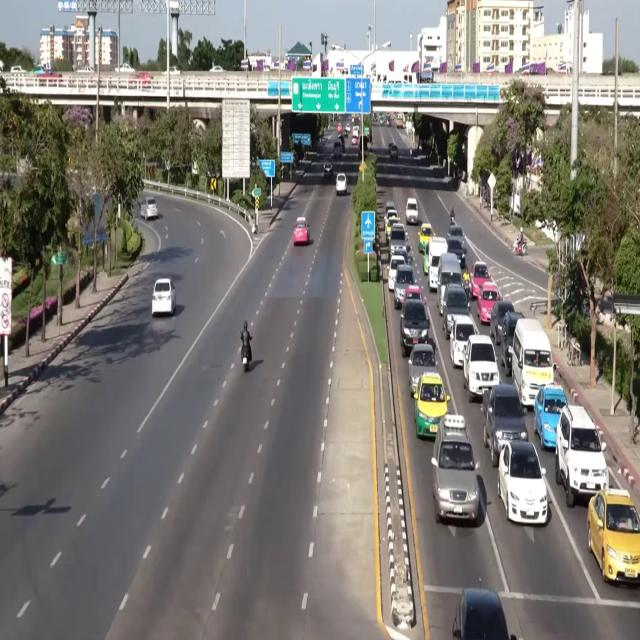car: (555, 404, 608, 508), (432, 415, 479, 523), (587, 489, 639, 584), (498, 441, 548, 525), (482, 384, 528, 467), (453, 588, 516, 639), (463, 335, 499, 401), (414, 373, 450, 438), (534, 384, 567, 448), (400, 301, 429, 357), (500, 312, 523, 376), (442, 283, 468, 339), (408, 344, 436, 395), (449, 316, 476, 367), (490, 300, 514, 345), (477, 281, 501, 323), (394, 264, 415, 309), (152, 279, 175, 316), (469, 262, 491, 299), (388, 256, 406, 291), (447, 238, 466, 268), (389, 224, 407, 255), (293, 217, 310, 246), (404, 285, 426, 304), (385, 209, 399, 238), (419, 224, 433, 253), (141, 197, 158, 220), (129, 72, 152, 86), (406, 198, 418, 224), (37, 71, 62, 83), (447, 224, 463, 241), (394, 250, 412, 264), (336, 173, 346, 195), (29, 65, 50, 75), (333, 141, 342, 159), (117, 64, 135, 73), (323, 160, 333, 175), (385, 200, 395, 215), (10, 65, 26, 74), (76, 65, 94, 73), (389, 144, 398, 159), (210, 65, 224, 72), (170, 66, 180, 75), (345, 123, 351, 134), (351, 136, 358, 145), (337, 123, 342, 134), (387, 118, 391, 127)
scooty: (241, 346, 250, 372), (513, 240, 527, 255)
